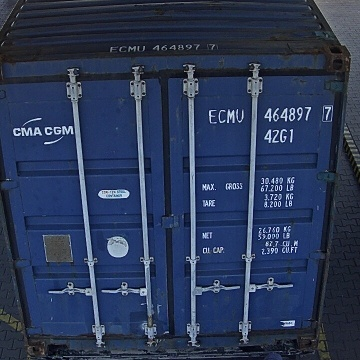serial_id: (209, 105, 332, 123)
